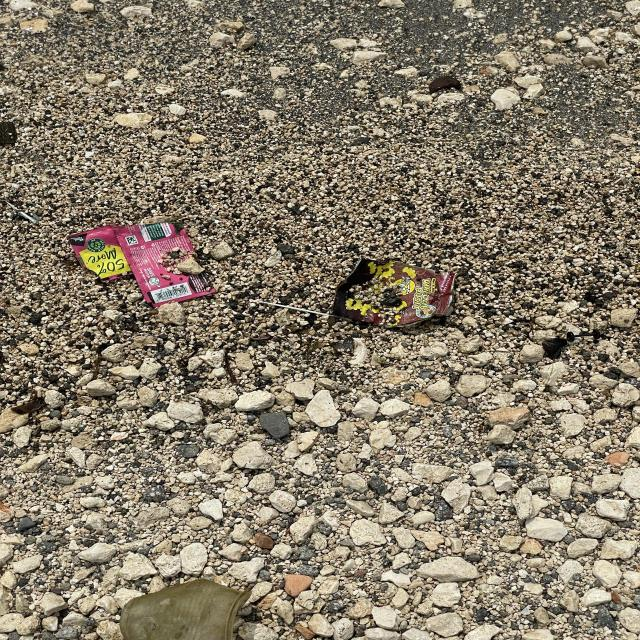plastic_waste: (70, 224, 219, 310), (333, 258, 457, 328), (121, 577, 253, 639)
